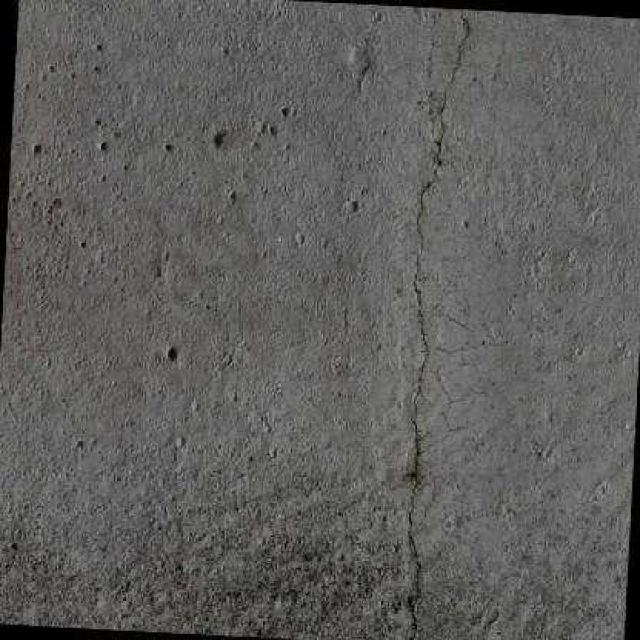D00: (405, 5, 472, 640)
